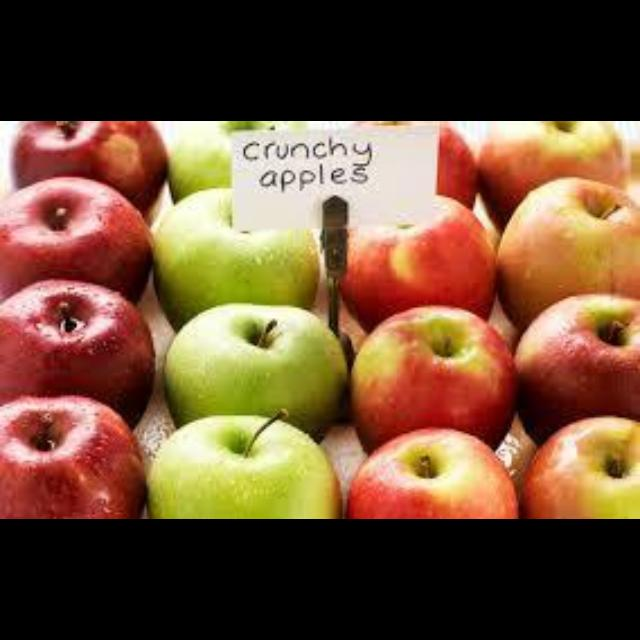apple: (165, 304, 345, 436), (352, 306, 514, 450), (153, 189, 318, 328), (0, 281, 153, 425), (498, 177, 638, 328), (340, 195, 494, 331), (149, 412, 340, 518), (0, 177, 151, 301), (514, 295, 638, 443), (0, 396, 144, 518), (480, 121, 629, 225), (347, 430, 516, 518), (11, 121, 165, 211), (521, 416, 638, 518), (169, 121, 304, 200), (437, 121, 475, 209), (356, 121, 426, 123)
